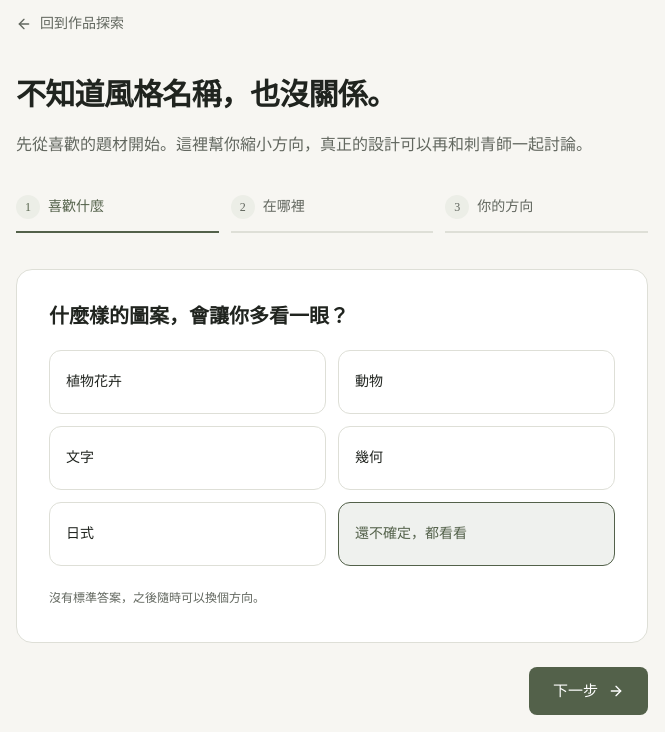
Test case: discovery guide › allows uncertainty without requiring fabricated preferences
The width and height of the screenshot is (665, 732).
Click the button "下一步".
click(588, 691)  # box [529,667,648,715]
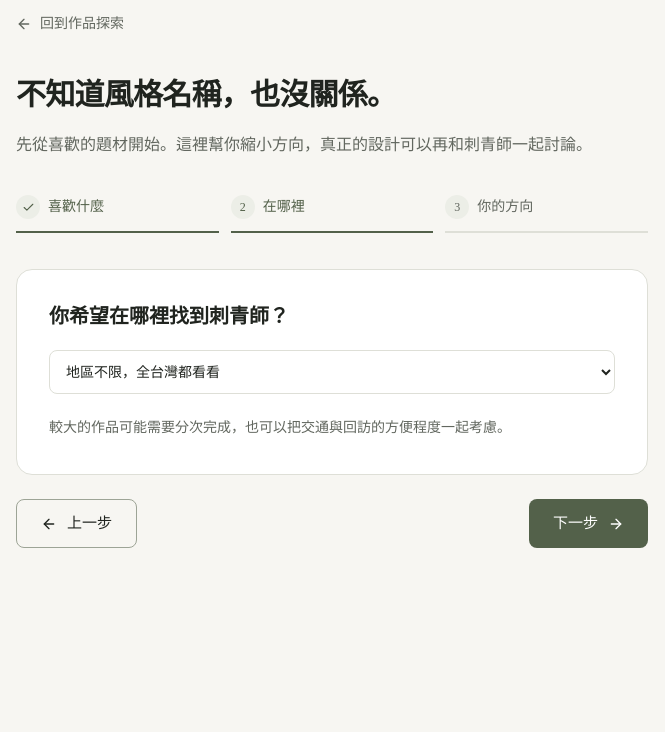
Click the button "下一步".
click(588, 524)  # box [529,499,648,548]
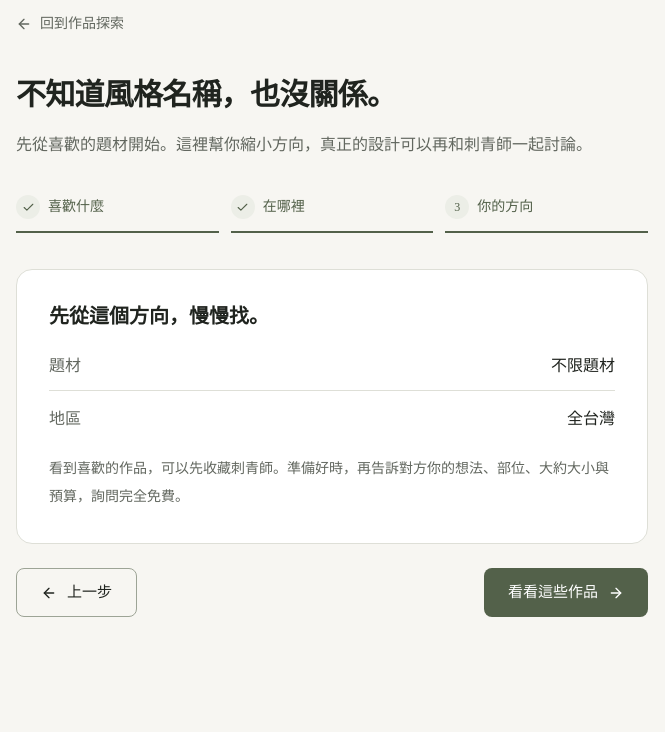
Now the text "不限題材" is shown, box [551,354,615,378]
